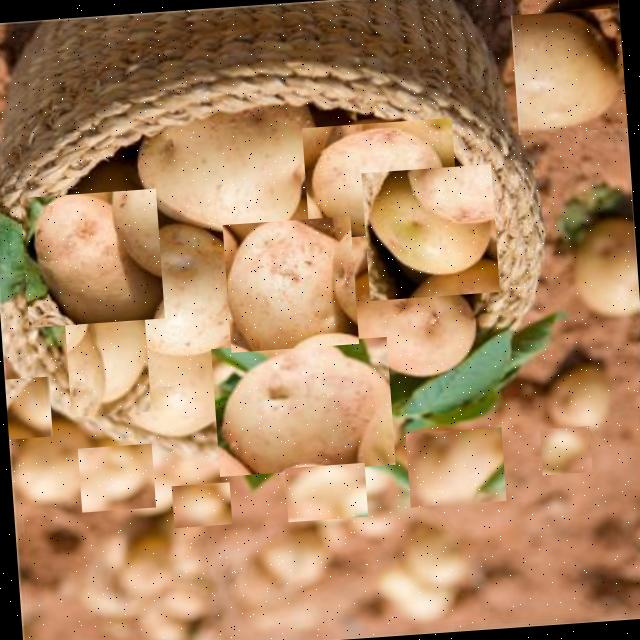Defected potato: (359, 162, 498, 300)
Potato: (124, 92, 328, 240), (210, 336, 394, 476), (100, 219, 256, 359), (18, 187, 164, 327), (300, 116, 458, 238), (221, 215, 358, 352), (103, 322, 254, 438), (343, 260, 480, 384), (509, 7, 627, 134), (7, 420, 103, 526), (63, 310, 150, 416), (559, 214, 640, 317), (534, 350, 622, 442), (404, 426, 505, 506), (76, 442, 154, 511), (283, 462, 367, 520), (4, 375, 52, 438), (170, 481, 231, 527), (538, 425, 591, 474)
